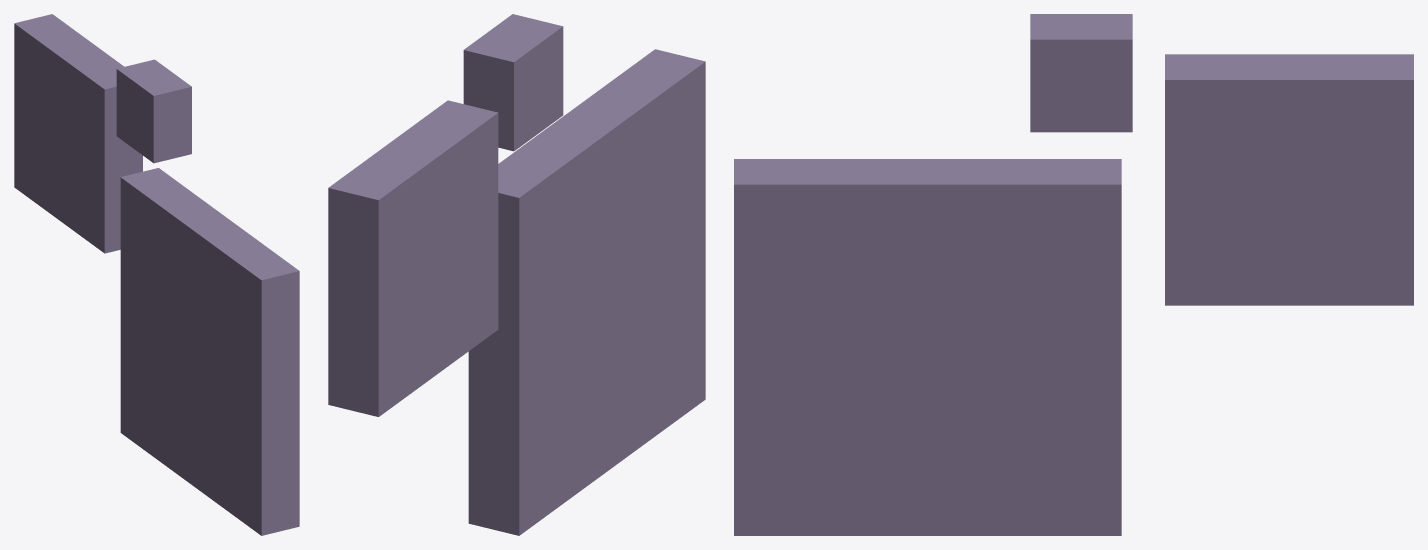
File: Side Rocks 1.glb
3 views of the same model, side by side, from view 1: azimuth 30°, elevation 25°; view 2: azimuth 150°, elevation 25°; view 3: azimuth 270°, elevation 25° (orthographic). The views are drawn at different scales.
Visible parts, largest first — view 1: Cube.027, Cube.026, Cube.025; view 2: Cube.027, Cube.026, Cube.025; view 3: Cube.027, Cube.026, Cube.025.
Boxes of the visible parts, x1,y1,x2,y2 form: Cube.027: (120,168,299,535); Cube.026: (14,14,142,253); Cube.025: (116,59,191,163); Cube.027: (468,49,705,535); Cube.026: (328,100,498,416); Cube.025: (463,14,563,151); Cube.027: (734,159,1121,535); Cube.026: (1165,54,1413,305); Cube.025: (1030,14,1132,132).
Size of the model in its own units: 0.1606 by 1.45 by 1.8.
